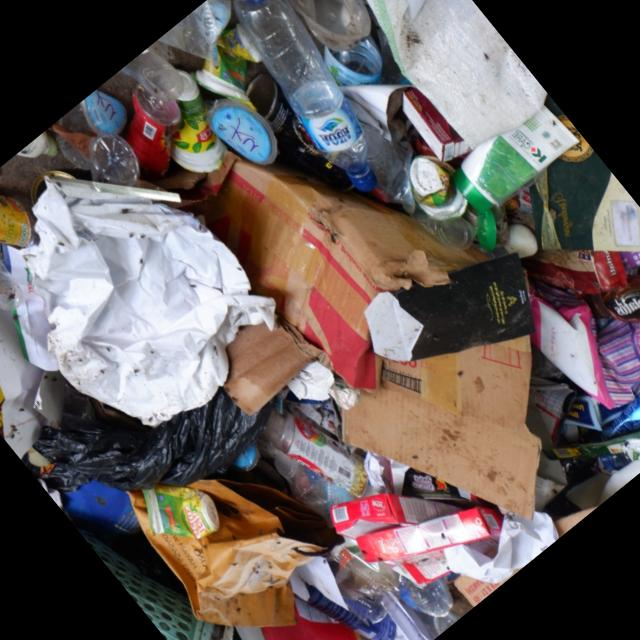GelasPlastik: (136, 68, 252, 191), (391, 145, 496, 258), (130, 463, 229, 564), (270, 0, 391, 70), (202, 89, 292, 182), (59, 80, 136, 156), (123, 42, 188, 109), (0, 206, 38, 320)
